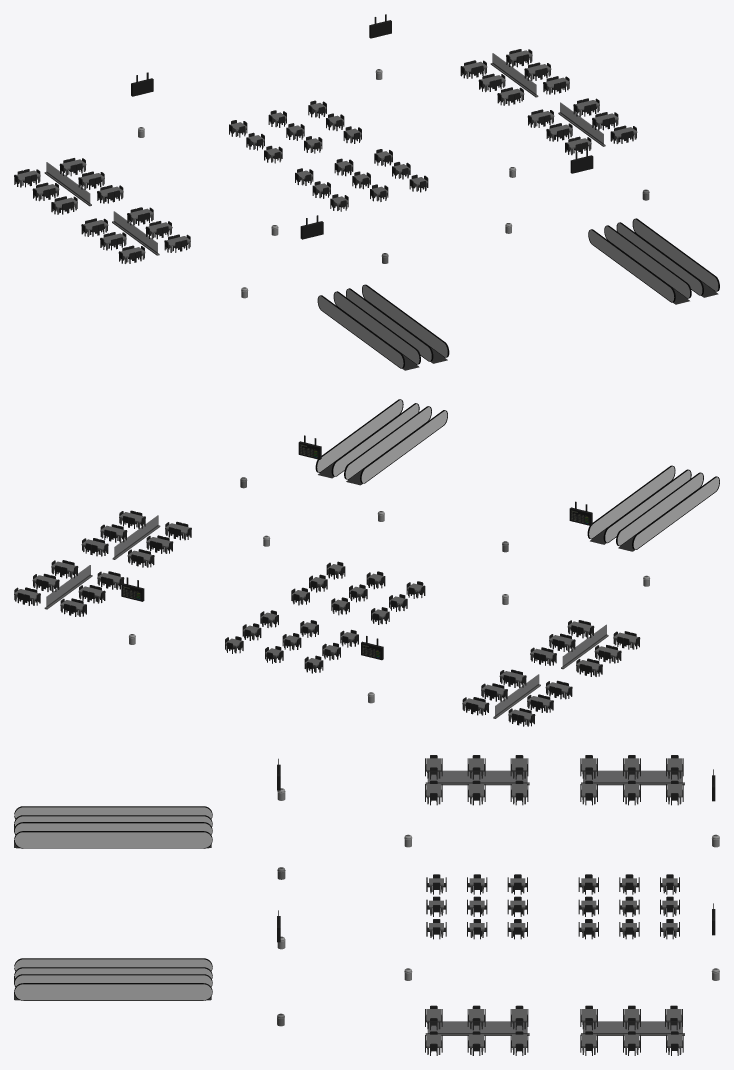
Rendered from foodTables.fbx.
3 views of the same model, one above another, from view 1: azimuth 30°, elevation 25°; view 2: azimuth 150°, elevation 25°; view 3: azimuth 270°, elevation 25° (orthographic). The views are drawn at different scales.
Parts seen in each view (by area): view 1: tapete rolante 2, tapete rolante 1, cadeiras restaurantes.004, cadeiras restaurantes.005, cadeiras restaurantes.002, cadeiras restaurantes.011, cadeiras restaurantes.008, cadeiras restaurantes.009, Cube.001, Cube.003, Cube.004, Cube.012; view 2: tapete rolante 1, tapete rolante 2, cadeiras restaurantes.005, cadeiras restaurantes.004, cadeiras restaurantes.011, cadeiras restaurantes.008, cadeiras restaurantes.002, cadeiras restaurantes.009, Cube.001, Cube.003, Cube.012, Cube.004; view 3: tapete rolante 2, tapete rolante 1, cadeiras restaurantes.004, cadeiras restaurantes.005, cadeiras restaurantes.008, cadeiras restaurantes.009, cadeiras restaurantes.011, cadeiras restaurantes.002, Cube.003, Cube.004, Cube.012, Cube.001.
Boxes of the visible parts, box(x1,y1,x2,y2) form: tapete rolante 2: box(588, 218, 719, 304); tapete rolante 1: box(317, 284, 449, 370); cadeiras restaurantes.004: box(295, 149, 428, 211); cadeiras restaurantes.005: box(229, 100, 361, 163); cadeiras restaurantes.002: box(460, 49, 569, 105); cadeiras restaurantes.011: box(14, 158, 123, 214); cadeiras restaurantes.008: box(527, 98, 637, 155); cadeiras restaurantes.009: box(81, 207, 190, 263); Cube.001: box(490, 53, 538, 97); Cube.003: box(112, 211, 159, 255); Cube.004: box(44, 162, 91, 206); Cube.012: box(558, 102, 605, 146); tapete rolante 1: box(587, 465, 719, 551); tapete rolante 2: box(315, 399, 447, 485); cadeiras restaurantes.005: box(225, 610, 358, 673); cadeiras restaurantes.004: box(291, 561, 425, 624); cadeiras restaurantes.011: box(462, 669, 572, 726); cadeiras restaurantes.008: box(81, 510, 191, 567); cadeiras restaurantes.002: box(14, 560, 124, 616); cadeiras restaurantes.009: box(530, 620, 640, 676); Cube.001: box(44, 565, 92, 609); Cube.003: box(561, 624, 608, 669); Cube.012: box(112, 515, 160, 559); Cube.004: box(493, 674, 540, 718); tapete rolante 2: box(14, 958, 212, 1000); tapete rolante 1: box(14, 806, 212, 848); cadeiras restaurantes.004: box(426, 874, 527, 939); cadeiras restaurantes.005: box(578, 874, 679, 939); cadeiras restaurantes.008: box(425, 1005, 528, 1055); cadeiras restaurantes.009: box(425, 755, 528, 805); cadeiras restaurantes.011: box(580, 755, 683, 805); cadeiras restaurantes.002: box(580, 1005, 683, 1055); Cube.003: box(425, 770, 529, 785); Cube.004: box(581, 770, 684, 785); Cube.012: box(425, 1021, 529, 1035); Cube.001: box(581, 1021, 684, 1035).
Size of the model in its own units: 4573 by 551 by 4718.
10 materials, 2 textured.
